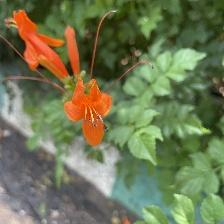honeysuckle: (63, 75, 120, 147)
